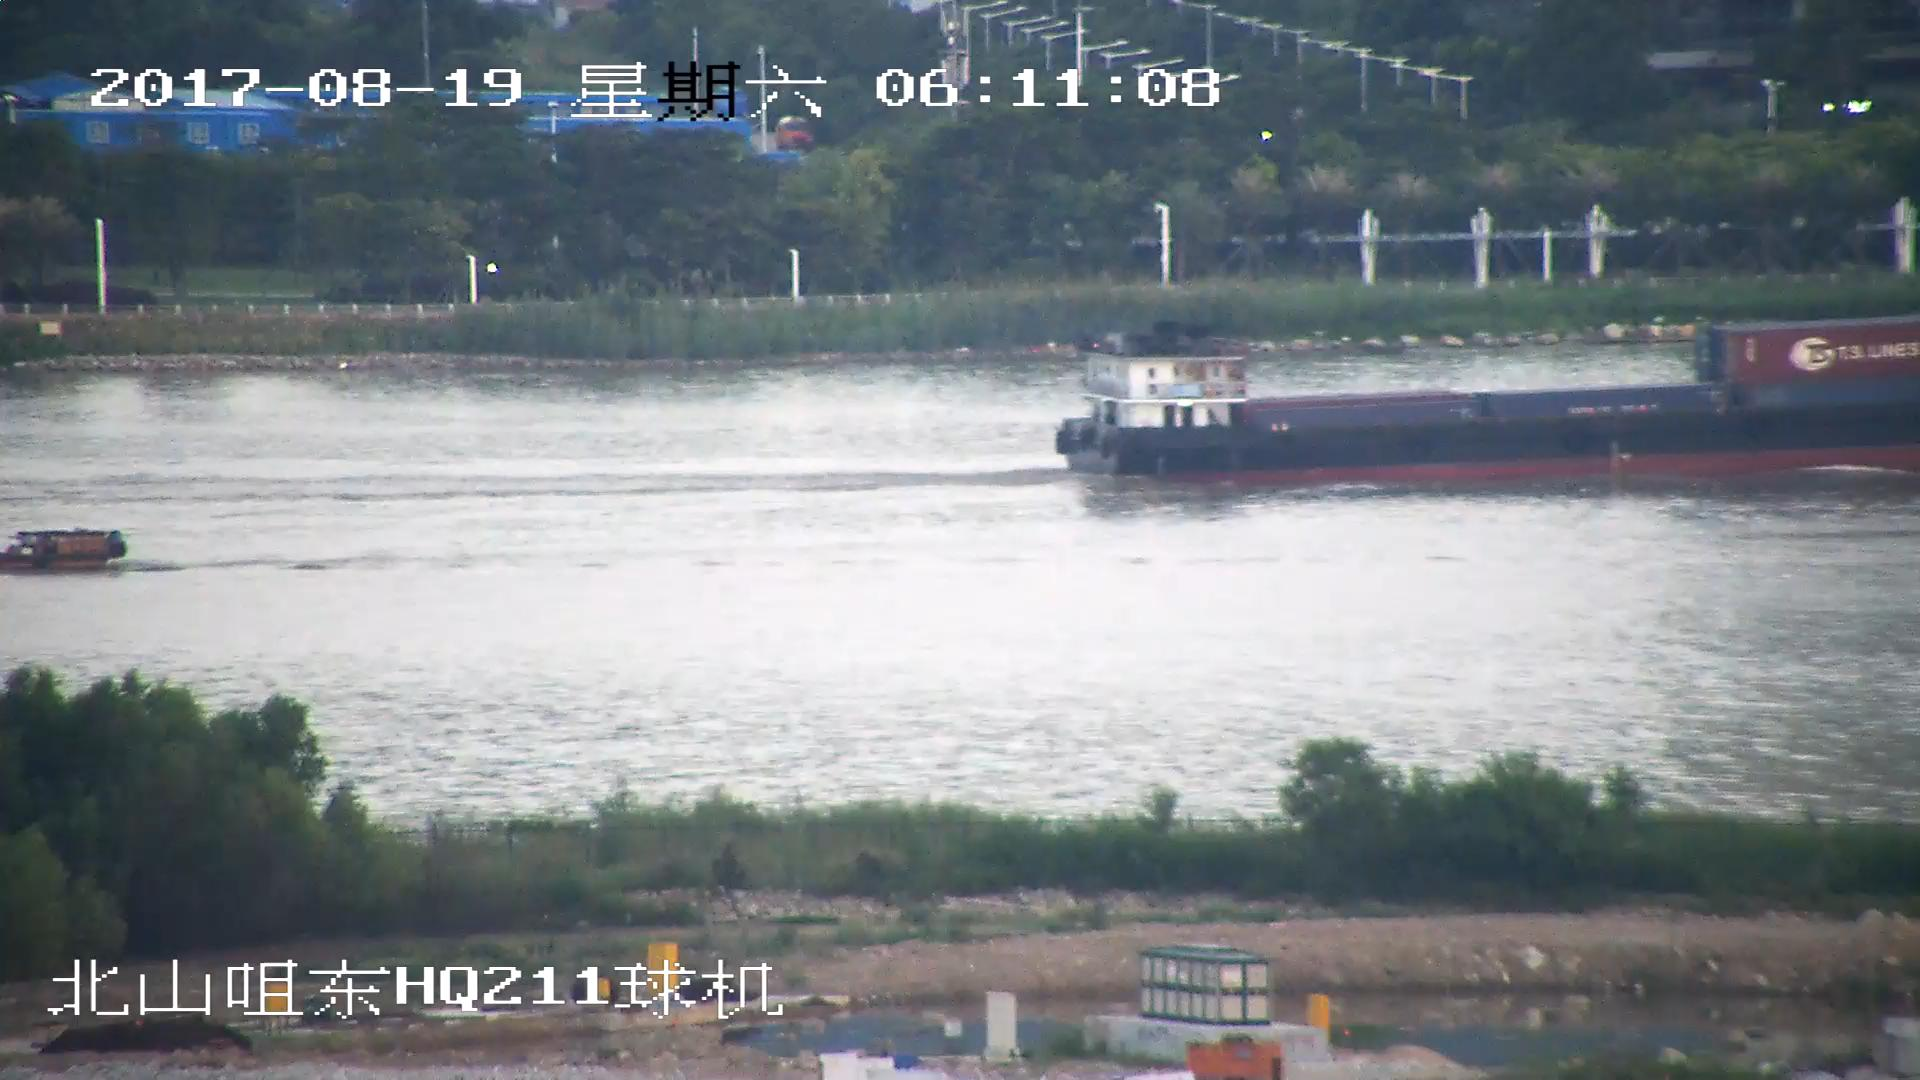container ship: (1052, 316, 1920, 480)
fishing boat: (1, 524, 129, 577)
